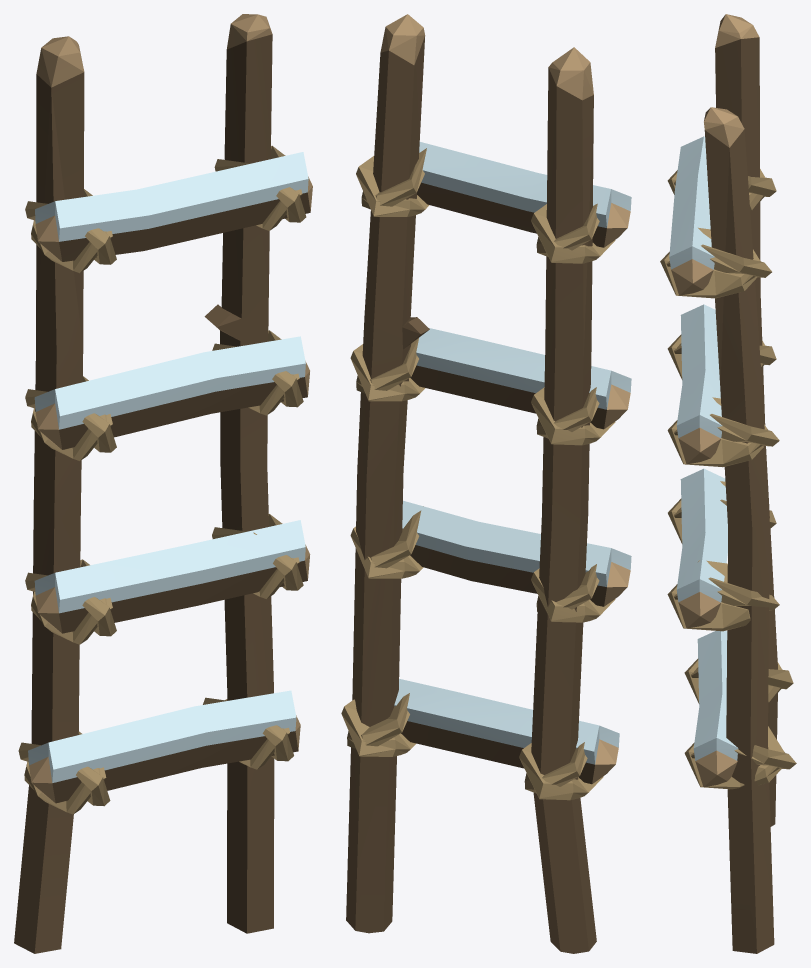
File: Escalera_Mano02.glb
3 renders of one model, left to right at view 1: azimuth 30°, elevation 25°; view 2: azimuth 150°, elevation 25°; view 3: azimuth 270°, elevation 25°, orthographic. The views are drawn at different scales.
Visible parts, largest first — view 1: SM_Prop_Ladder_02_Snow; view 2: SM_Prop_Ladder_02_Snow; view 3: SM_Prop_Ladder_02_Snow.
Boxes of the visible parts, left/top/right/bottom form: SM_Prop_Ladder_02_Snow: left=14, top=14, right=312, bottom=953; SM_Prop_Ladder_02_Snow: left=341, top=14, right=631, bottom=953; SM_Prop_Ladder_02_Snow: left=660, top=14, right=796, bottom=953.
Size of the model in its own units: 0.8248 by 2.78 by 0.4041.
Materials: 1 (1 with a texture image).
